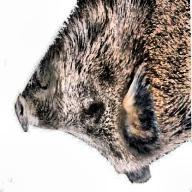boar: (6, 3, 192, 180)
